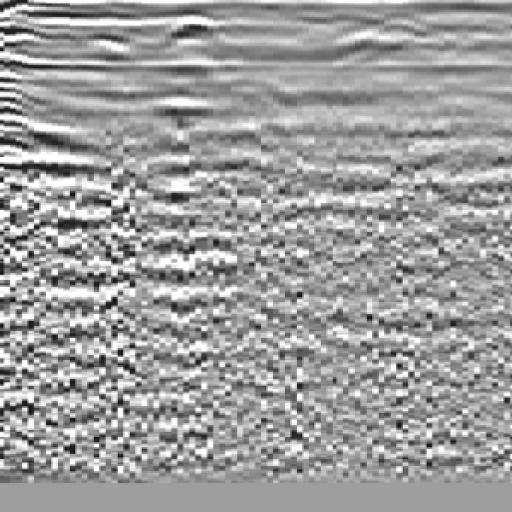non-metallic: (3, 39, 113, 267)
